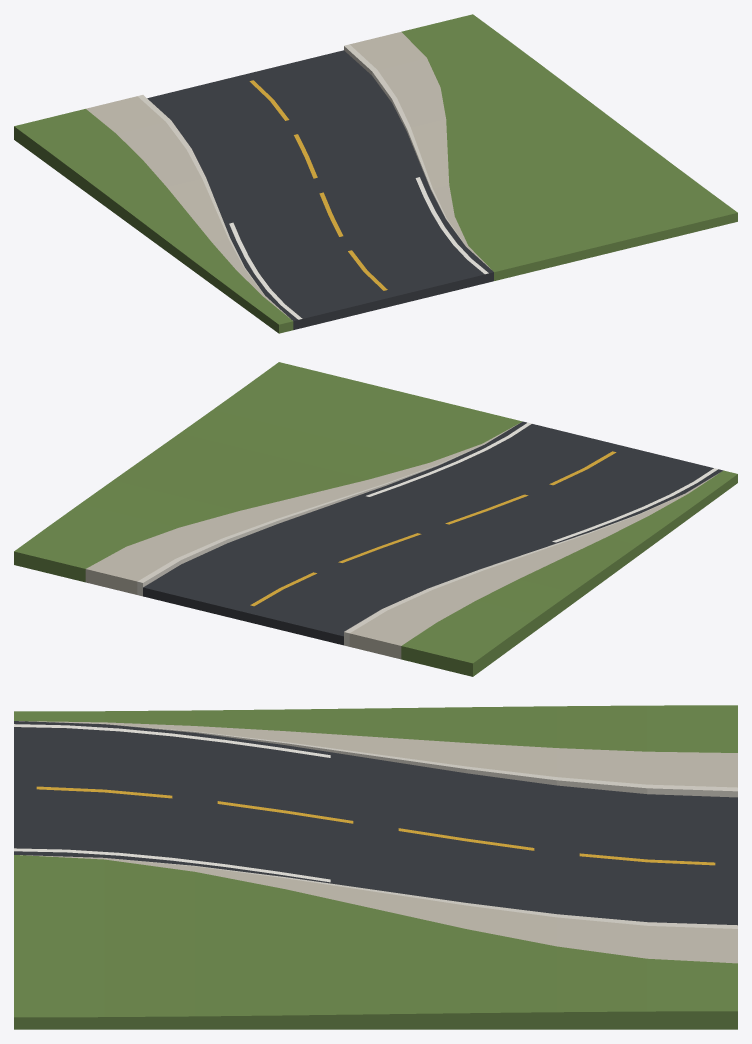
Rendered from Transition_Sidewalk_To_NoSidewalk_2Lane_16m.glb.
3 views of the same model, one above another, from view 1: azimuth 30°, elevation 25°; view 2: azimuth 150°, elevation 25°; view 3: azimuth 270°, elevation 25° (orthographic). The views are drawn at different scales.
Visible parts, largest first — view 1: Transition_Sidewalk_To_NoSidewalk_2Lane_16m_Grass-edge, Transition_Sidewalk_To_NoSidewalk_2Lane_16m_Asphalt, Transition_Sidewalk_To_NoSidewalk_2Lane_16m_Sidewalk, Transition_Sidewalk_To_NoSidewalk_2Lane_16m_Curb, Transition_Sidewalk_To_NoSidewalk_2Lane_16m_PaintWhite, Transition_Sidewalk_To_NoSidewalk_2Lane_16m_PaintYellow; view 2: Transition_Sidewalk_To_NoSidewalk_2Lane_16m_Grass-edge, Transition_Sidewalk_To_NoSidewalk_2Lane_16m_Asphalt, Transition_Sidewalk_To_NoSidewalk_2Lane_16m_Sidewalk, Transition_Sidewalk_To_NoSidewalk_2Lane_16m_Curb, Transition_Sidewalk_To_NoSidewalk_2Lane_16m_PaintWhite, Transition_Sidewalk_To_NoSidewalk_2Lane_16m_PaintYellow; view 3: Transition_Sidewalk_To_NoSidewalk_2Lane_16m_Grass-edge, Transition_Sidewalk_To_NoSidewalk_2Lane_16m_Asphalt, Transition_Sidewalk_To_NoSidewalk_2Lane_16m_Sidewalk, Transition_Sidewalk_To_NoSidewalk_2Lane_16m_Curb, Transition_Sidewalk_To_NoSidewalk_2Lane_16m_PaintWhite, Transition_Sidewalk_To_NoSidewalk_2Lane_16m_PaintYellow.
Part boxes in pixels (x1=…): Transition_Sidewalk_To_NoSidewalk_2Lane_16m_Grass-edge: x1=14, y1=14, x2=737, y2=333; Transition_Sidewalk_To_NoSidewalk_2Lane_16m_Asphalt: x1=147, y1=50, x2=493, y2=329; Transition_Sidewalk_To_NoSidewalk_2Lane_16m_Sidewalk: x1=86, y1=32, x2=490, y2=318; Transition_Sidewalk_To_NoSidewalk_2Lane_16m_Curb: x1=137, y1=44, x2=491, y2=310; Transition_Sidewalk_To_NoSidewalk_2Lane_16m_PaintWhite: x1=229, y1=177, x2=488, y2=319; Transition_Sidewalk_To_NoSidewalk_2Lane_16m_PaintYellow: x1=249, y1=80, x2=387, y2=290; Transition_Sidewalk_To_NoSidewalk_2Lane_16m_Grass-edge: x1=14, y1=362, x2=737, y2=676; Transition_Sidewalk_To_NoSidewalk_2Lane_16m_Asphalt: x1=143, y1=421, x2=723, y2=645; Transition_Sidewalk_To_NoSidewalk_2Lane_16m_Sidewalk: x1=85, y1=424, x2=718, y2=659; Transition_Sidewalk_To_NoSidewalk_2Lane_16m_Curb: x1=137, y1=428, x2=703, y2=646; Transition_Sidewalk_To_NoSidewalk_2Lane_16m_PaintWhite: x1=366, y1=422, x2=718, y2=542; Transition_Sidewalk_To_NoSidewalk_2Lane_16m_PaintYellow: x1=250, y1=451, x2=616, y2=606; Transition_Sidewalk_To_NoSidewalk_2Lane_16m_Grass-edge: x1=14, y1=705, x2=737, y2=1029; Transition_Sidewalk_To_NoSidewalk_2Lane_16m_Asphalt: x1=14, y1=721, x2=737, y2=925; Transition_Sidewalk_To_NoSidewalk_2Lane_16m_Sidewalk: x1=19, y1=721, x2=737, y2=963; Transition_Sidewalk_To_NoSidewalk_2Lane_16m_Curb: x1=28, y1=721, x2=737, y2=928; Transition_Sidewalk_To_NoSidewalk_2Lane_16m_PaintWhite: x1=14, y1=724, x2=330, y2=882; Transition_Sidewalk_To_NoSidewalk_2Lane_16m_PaintYellow: x1=36, y1=786, x2=715, y2=865.
Size of the model in its own units: 16 by 0.45 by 16.
